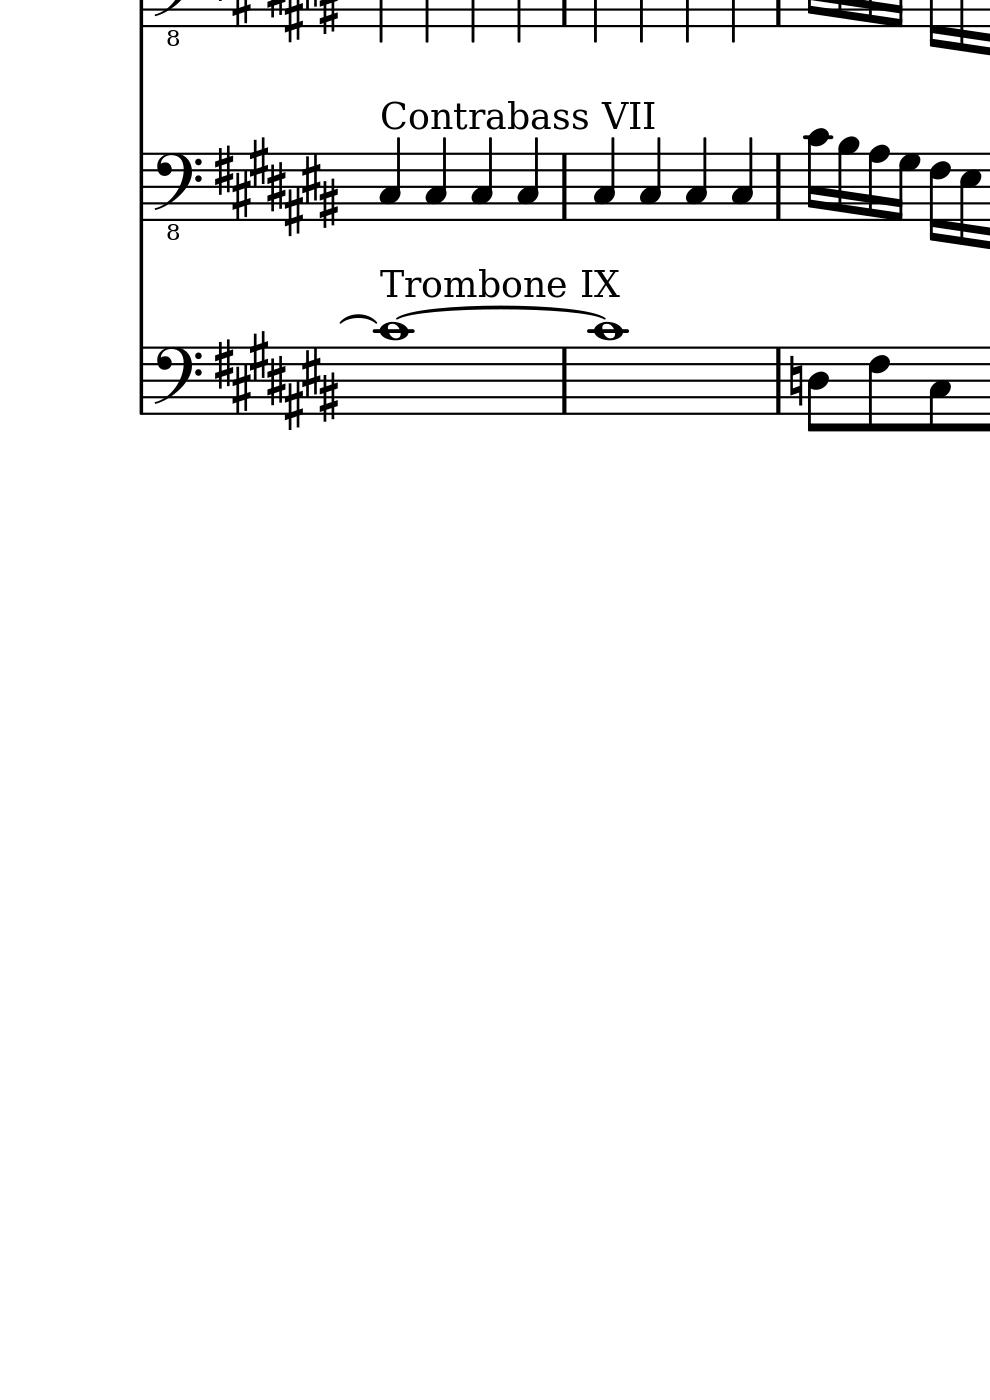16_10: (802, 125, 832, 224)
16_5: (957, 151, 982, 250)
16_6: (927, 152, 951, 243)
16_7: (891, 152, 921, 223)
16_8: (865, 144, 890, 223)
16_9: (835, 135, 859, 223)
1_10: (374, 319, 412, 417), (589, 320, 626, 417)
4_3: (682, 135, 708, 221), (729, 136, 754, 221), (377, 136, 402, 222), (423, 136, 448, 222), (515, 136, 540, 222), (637, 136, 662, 221), (469, 135, 493, 222), (592, 136, 616, 222)
8_3: (926, 344, 952, 433)
8_4: (805, 345, 829, 434)
8_6: (866, 344, 891, 435)
C_S: (210, 135, 342, 237), (214, 329, 339, 430)
Fclef: (152, 346, 202, 418)
Lower_Fclef: (152, 151, 202, 244)
Natural: (786, 353, 804, 407)
Single_barline: (768, 347, 787, 415), (133, 346, 151, 415), (134, 154, 151, 222), (769, 154, 786, 220), (555, 348, 572, 413), (555, 155, 572, 219)
Slur: (402, 305, 615, 321), (341, 313, 377, 325)
